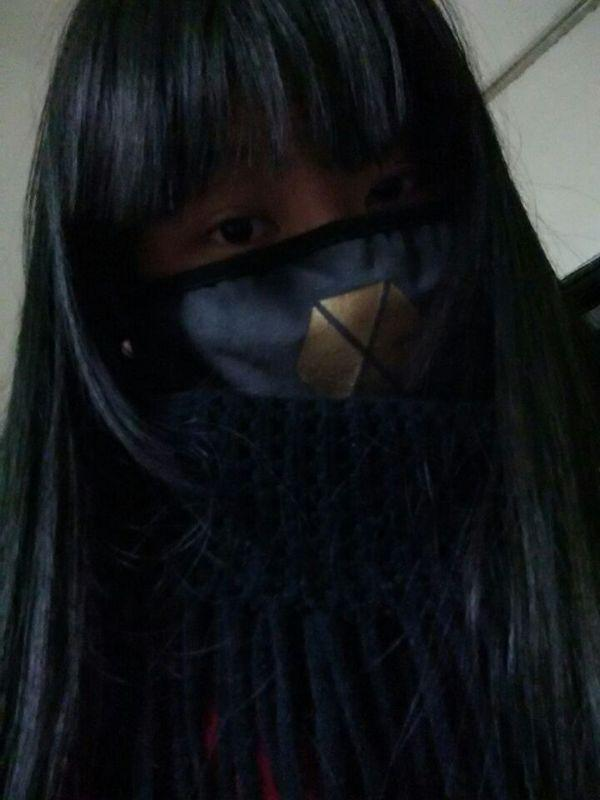OK: (146, 122, 475, 451)
